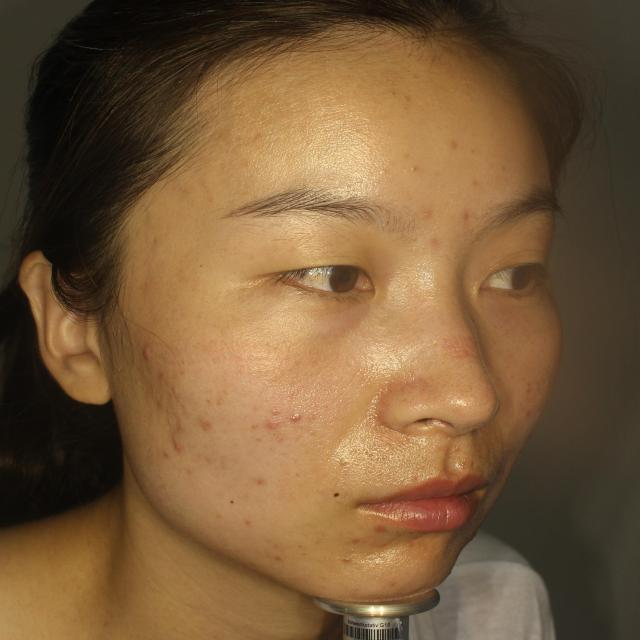acne: (409, 198, 434, 223), (248, 472, 274, 495), (459, 203, 481, 230), (257, 414, 283, 435), (344, 525, 371, 545), (201, 414, 220, 435)
